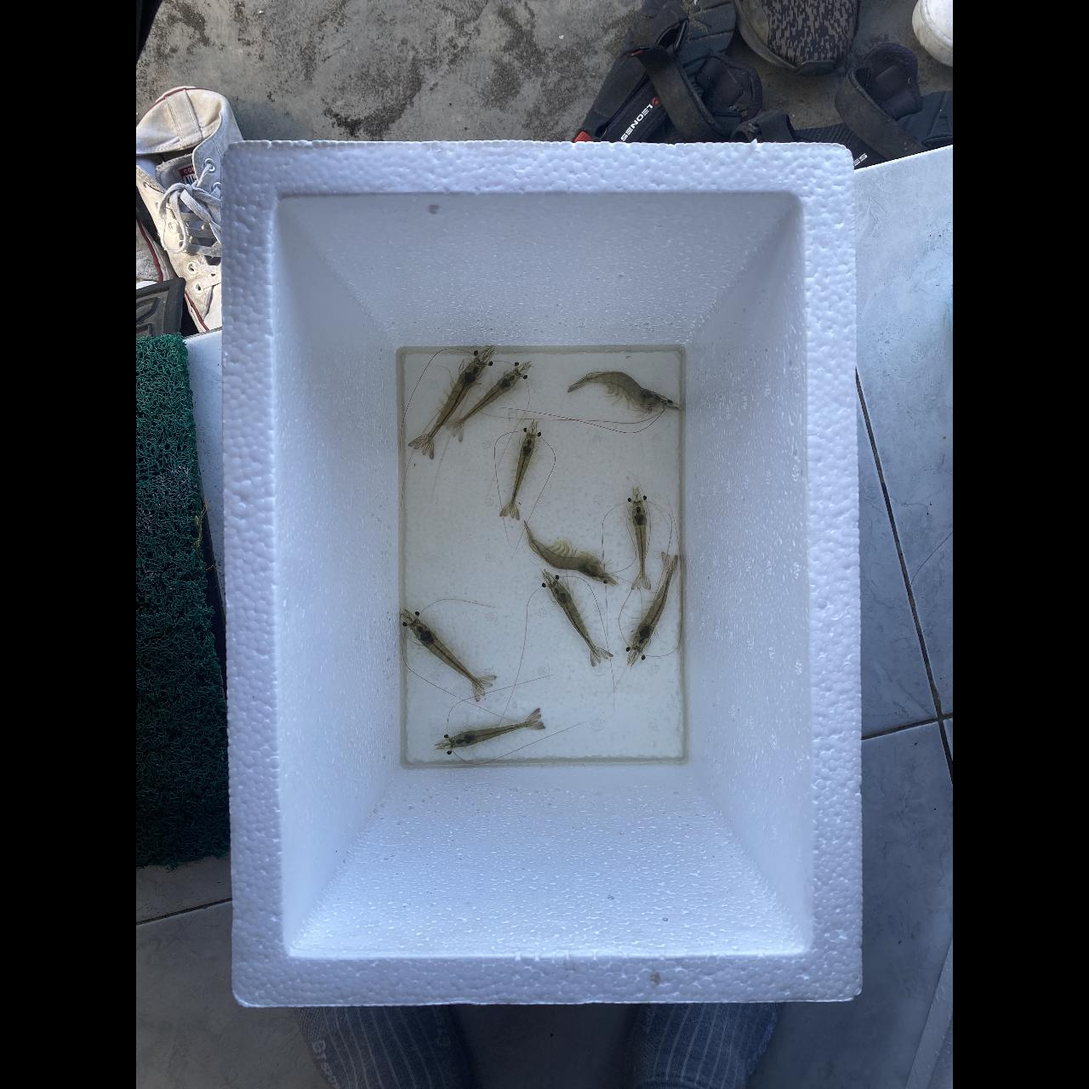side_shrimp: (524, 525, 602, 577), (568, 371, 659, 408)
top_shrimp: (420, 360, 484, 447), (410, 621, 485, 691), (451, 371, 521, 430), (633, 561, 674, 651), (553, 583, 601, 658), (452, 721, 537, 747), (510, 435, 536, 514), (632, 502, 646, 586)
